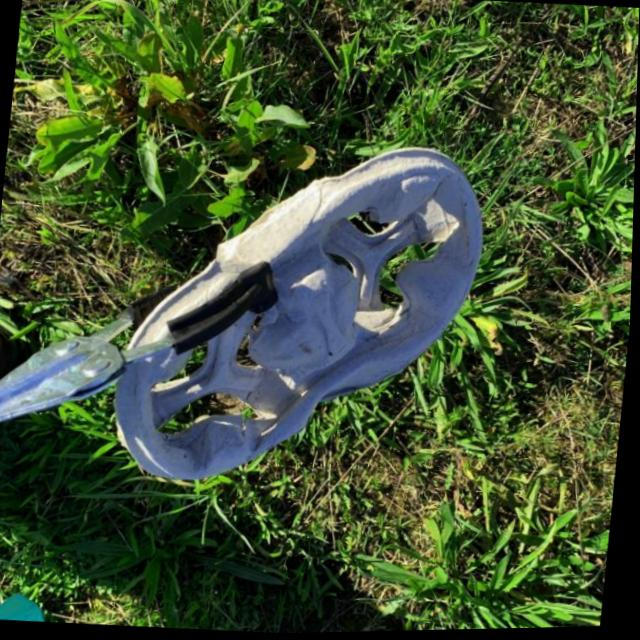Paper: (105, 125, 497, 506)
